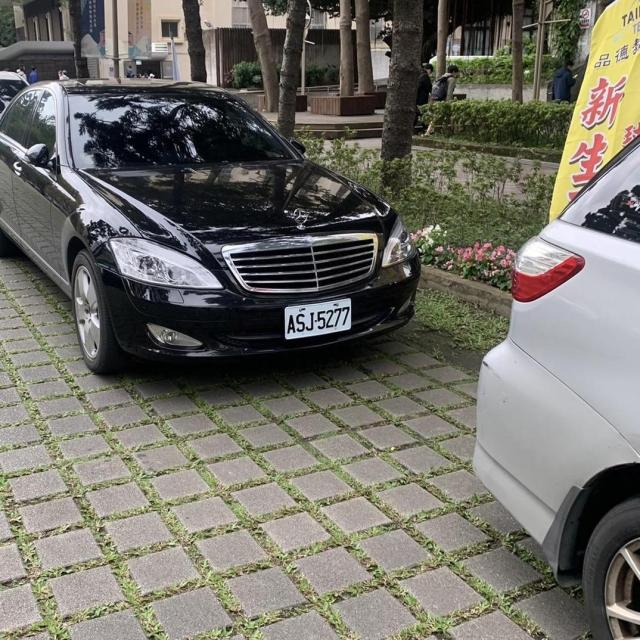W: (281, 299, 356, 342)
